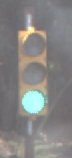Green: (13, 27, 56, 128)
